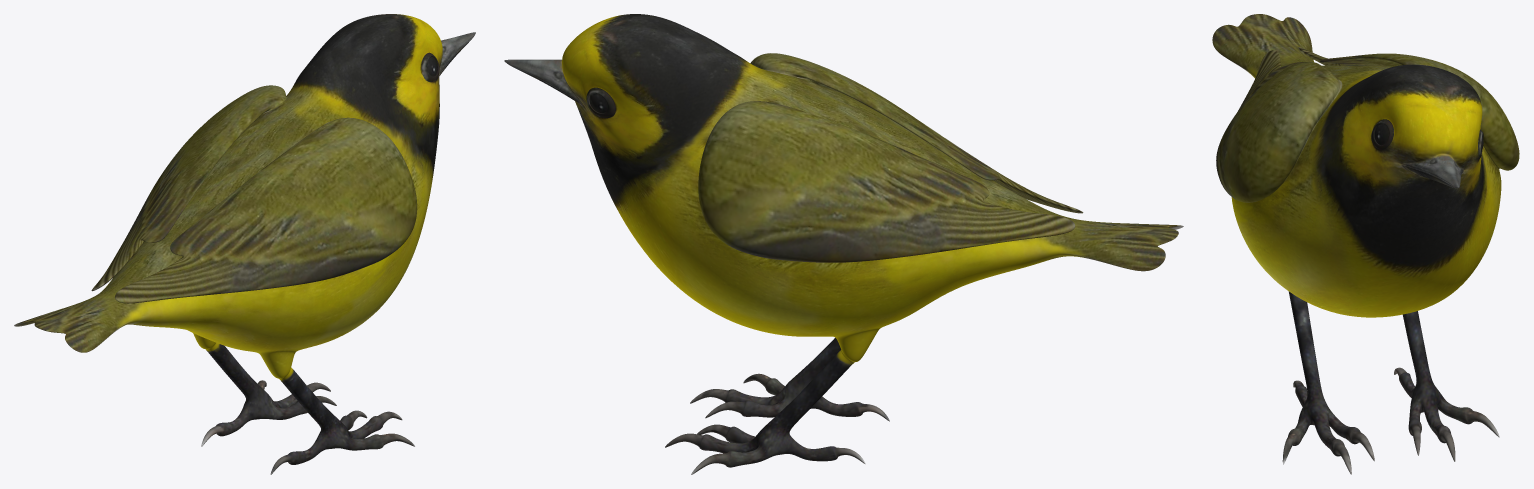
File: bird.fbx
3 renders of one model, left to right at view 1: azimuth 30°, elevation 25°; view 2: azimuth 150°, elevation 25°; view 3: azimuth 270°, elevation 25°, orthographic. The views are drawn at different scales.
Visible parts, largest first — view 1: 12214_Bird_v1max_l3; view 2: 12214_Bird_v1max_l3; view 3: 12214_Bird_v1max_l3.
Part boxes in pixels (box(x1,y1,x2,y2)): 12214_Bird_v1max_l3: box(14, 14, 475, 474); 12214_Bird_v1max_l3: box(504, 14, 1183, 474); 12214_Bird_v1max_l3: box(1212, 14, 1519, 474).
Bounding box in the file's own units: 5899 × 3919 × 2678.
